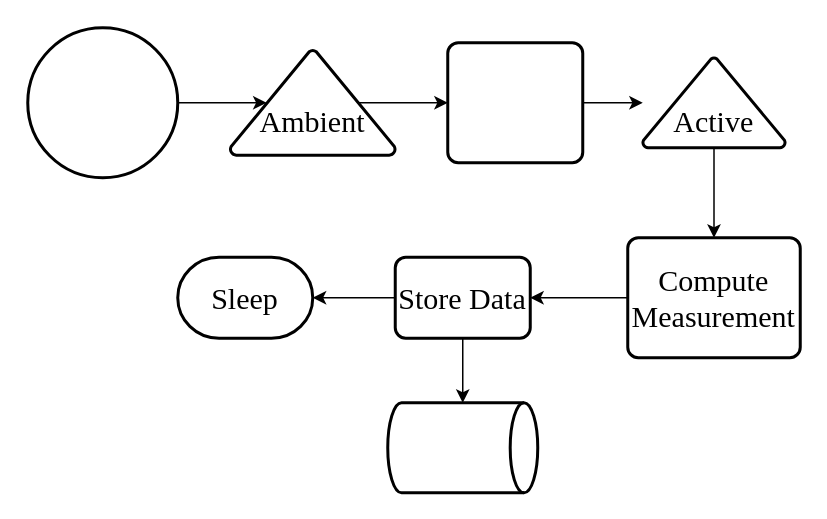
The diagram is 827 pixels wide and 519 high, and some of its shapes have lost their labels. Here are the shapes that lost their labels. From the top down, the centre of each, then its label:
At pixel 102 102: "Timer".
At pixel 515 102: "Drive LED".
At pixel 462 447: "SD Card".
